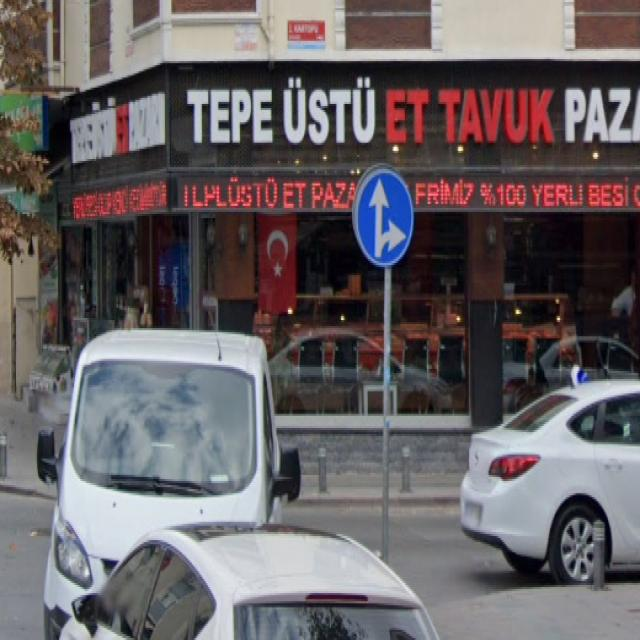ilerisag: (354, 167, 412, 267)
